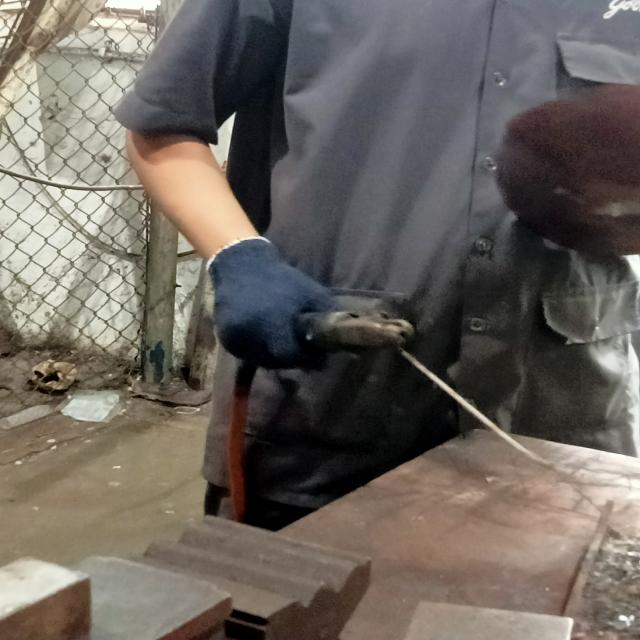Gloves-Detection: (198, 245, 328, 361)
